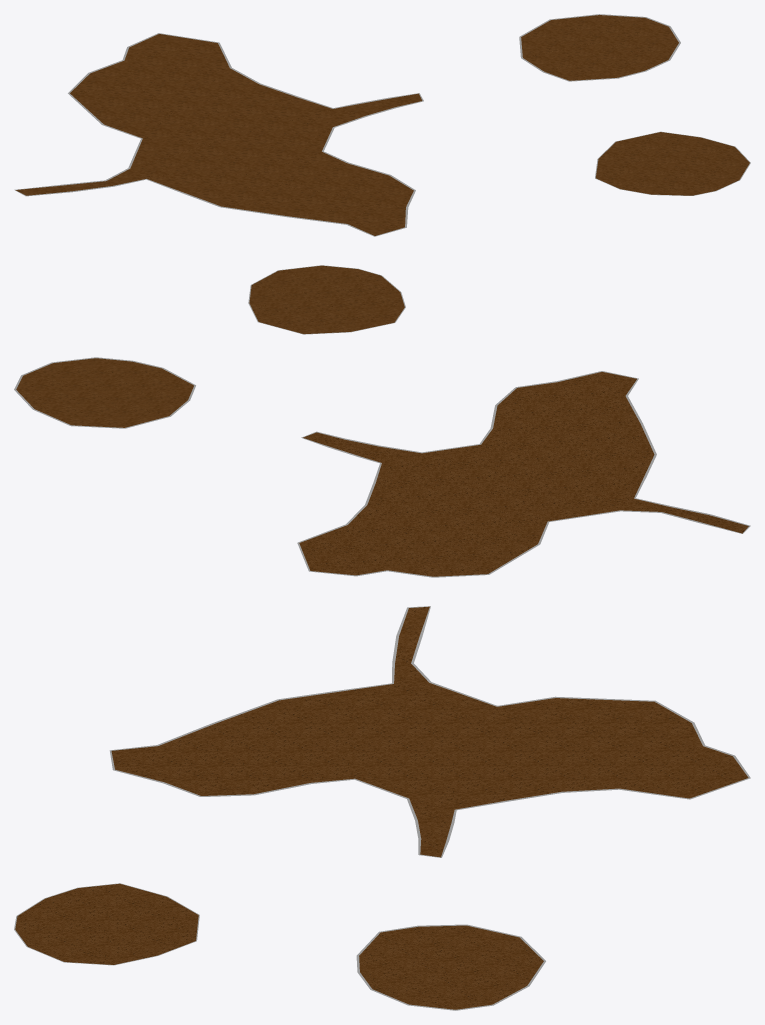
The model's file is Suelo.fbx.
3 renders of one model, top to bottom at view 1: azimuth 30°, elevation 25°; view 2: azimuth 150°, elevation 25°; view 3: azimuth 270°, elevation 25°, orthographic. The views are drawn at different scales.
Parts seen in each view (by area): view 1: SueloGrande, Suelo1, Suelo2; view 2: SueloGrande, Suelo1, Suelo2; view 3: SueloGrande, Suelo1, Suelo2.
Part boxes in pixels (x1,y1,x2,y2): SueloGrande: (14,33,423,236); Suelo1: (519,14,680,81); Suelo2: (595,131,750,195); SueloGrande: (297,371,750,577); Suelo1: (14,357,195,428); Suelo2: (248,265,405,334); SueloGrande: (109,606,750,857); Suelo1: (356,924,545,1010); Suelo2: (14,883,199,965).
Bounding box in the file's own units: 152 × 1.42 × 119.
